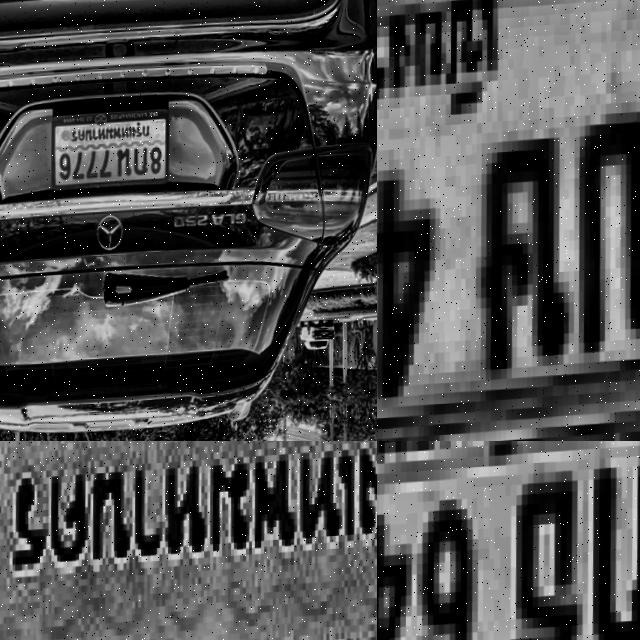license-plate: (377, 0, 640, 441), (0, 441, 377, 640), (377, 441, 640, 640), (47, 107, 170, 196)
